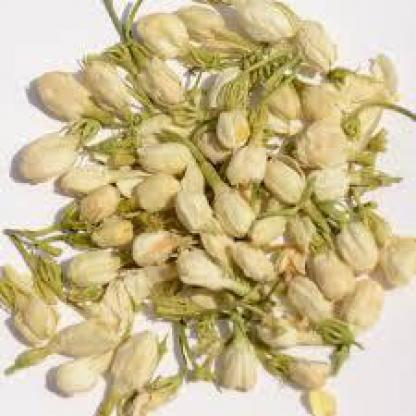Melati: (9, 33, 388, 386)
